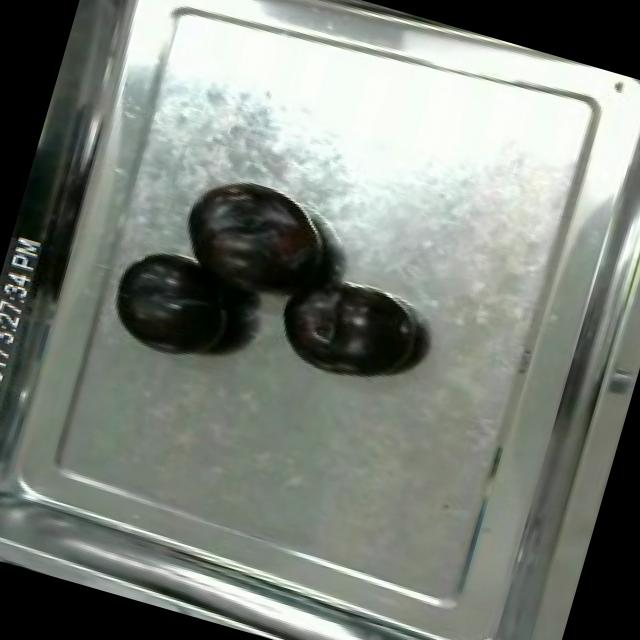Fruit: (166, 164, 344, 316), (264, 264, 431, 396), (98, 238, 255, 374)
